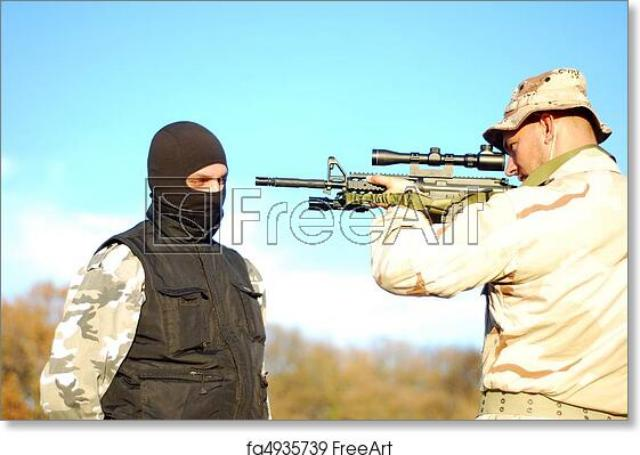other: (38, 122, 268, 415), (476, 70, 630, 421)
